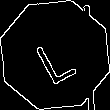L_NW: (29, 25, 81, 85)
